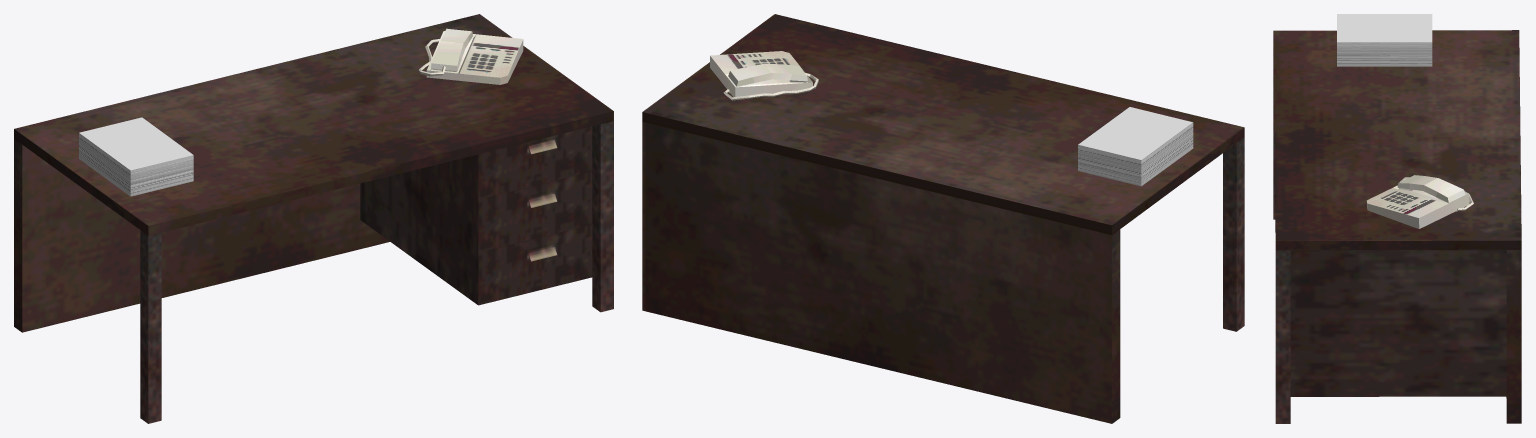
The model's file is desk_04.fbx.
The picture shows the model from 3 angles, left to right: view 1: azimuth 30°, elevation 25°; view 2: azimuth 150°, elevation 25°; view 3: azimuth 270°, elevation 25°; orthographic projection. The views are drawn at different scales.
Visible parts, largest first — view 1: desk2_alt3_weathered, paper_stack_large, desk_phone_with_cable; view 2: desk2_alt3_weathered, paper_stack_large, desk_phone_with_cable; view 3: desk2_alt3_weathered, paper_stack_large, desk_phone_with_cable.
Part boxes in pixels (<box>): desk2_alt3_weathered: <box>14,14,613,423</box>; paper_stack_large: <box>79,117,193,196</box>; desk_phone_with_cable: <box>419,28,523,84</box>; desk2_alt3_weathered: <box>642,14,1244,423</box>; paper_stack_large: <box>1078,107,1193,186</box>; desk_phone_with_cable: <box>710,51,818,100</box>; desk2_alt3_weathered: <box>1273,30,1521,423</box>; paper_stack_large: <box>1337,14,1432,66</box>; desk_phone_with_cable: <box>1366,175,1473,228</box>.
Size of the model in its own units: 221 by 101 by 110.
